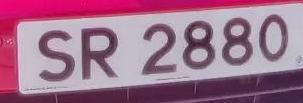0: (253, 9, 294, 68)
2: (137, 17, 182, 81)
8: (179, 13, 220, 77), (217, 11, 258, 74)
R: (75, 19, 126, 84)
S: (29, 23, 82, 89)
